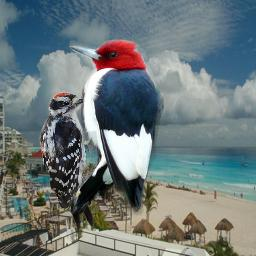Woodpecker: (69, 34, 164, 219), (38, 92, 93, 231)
